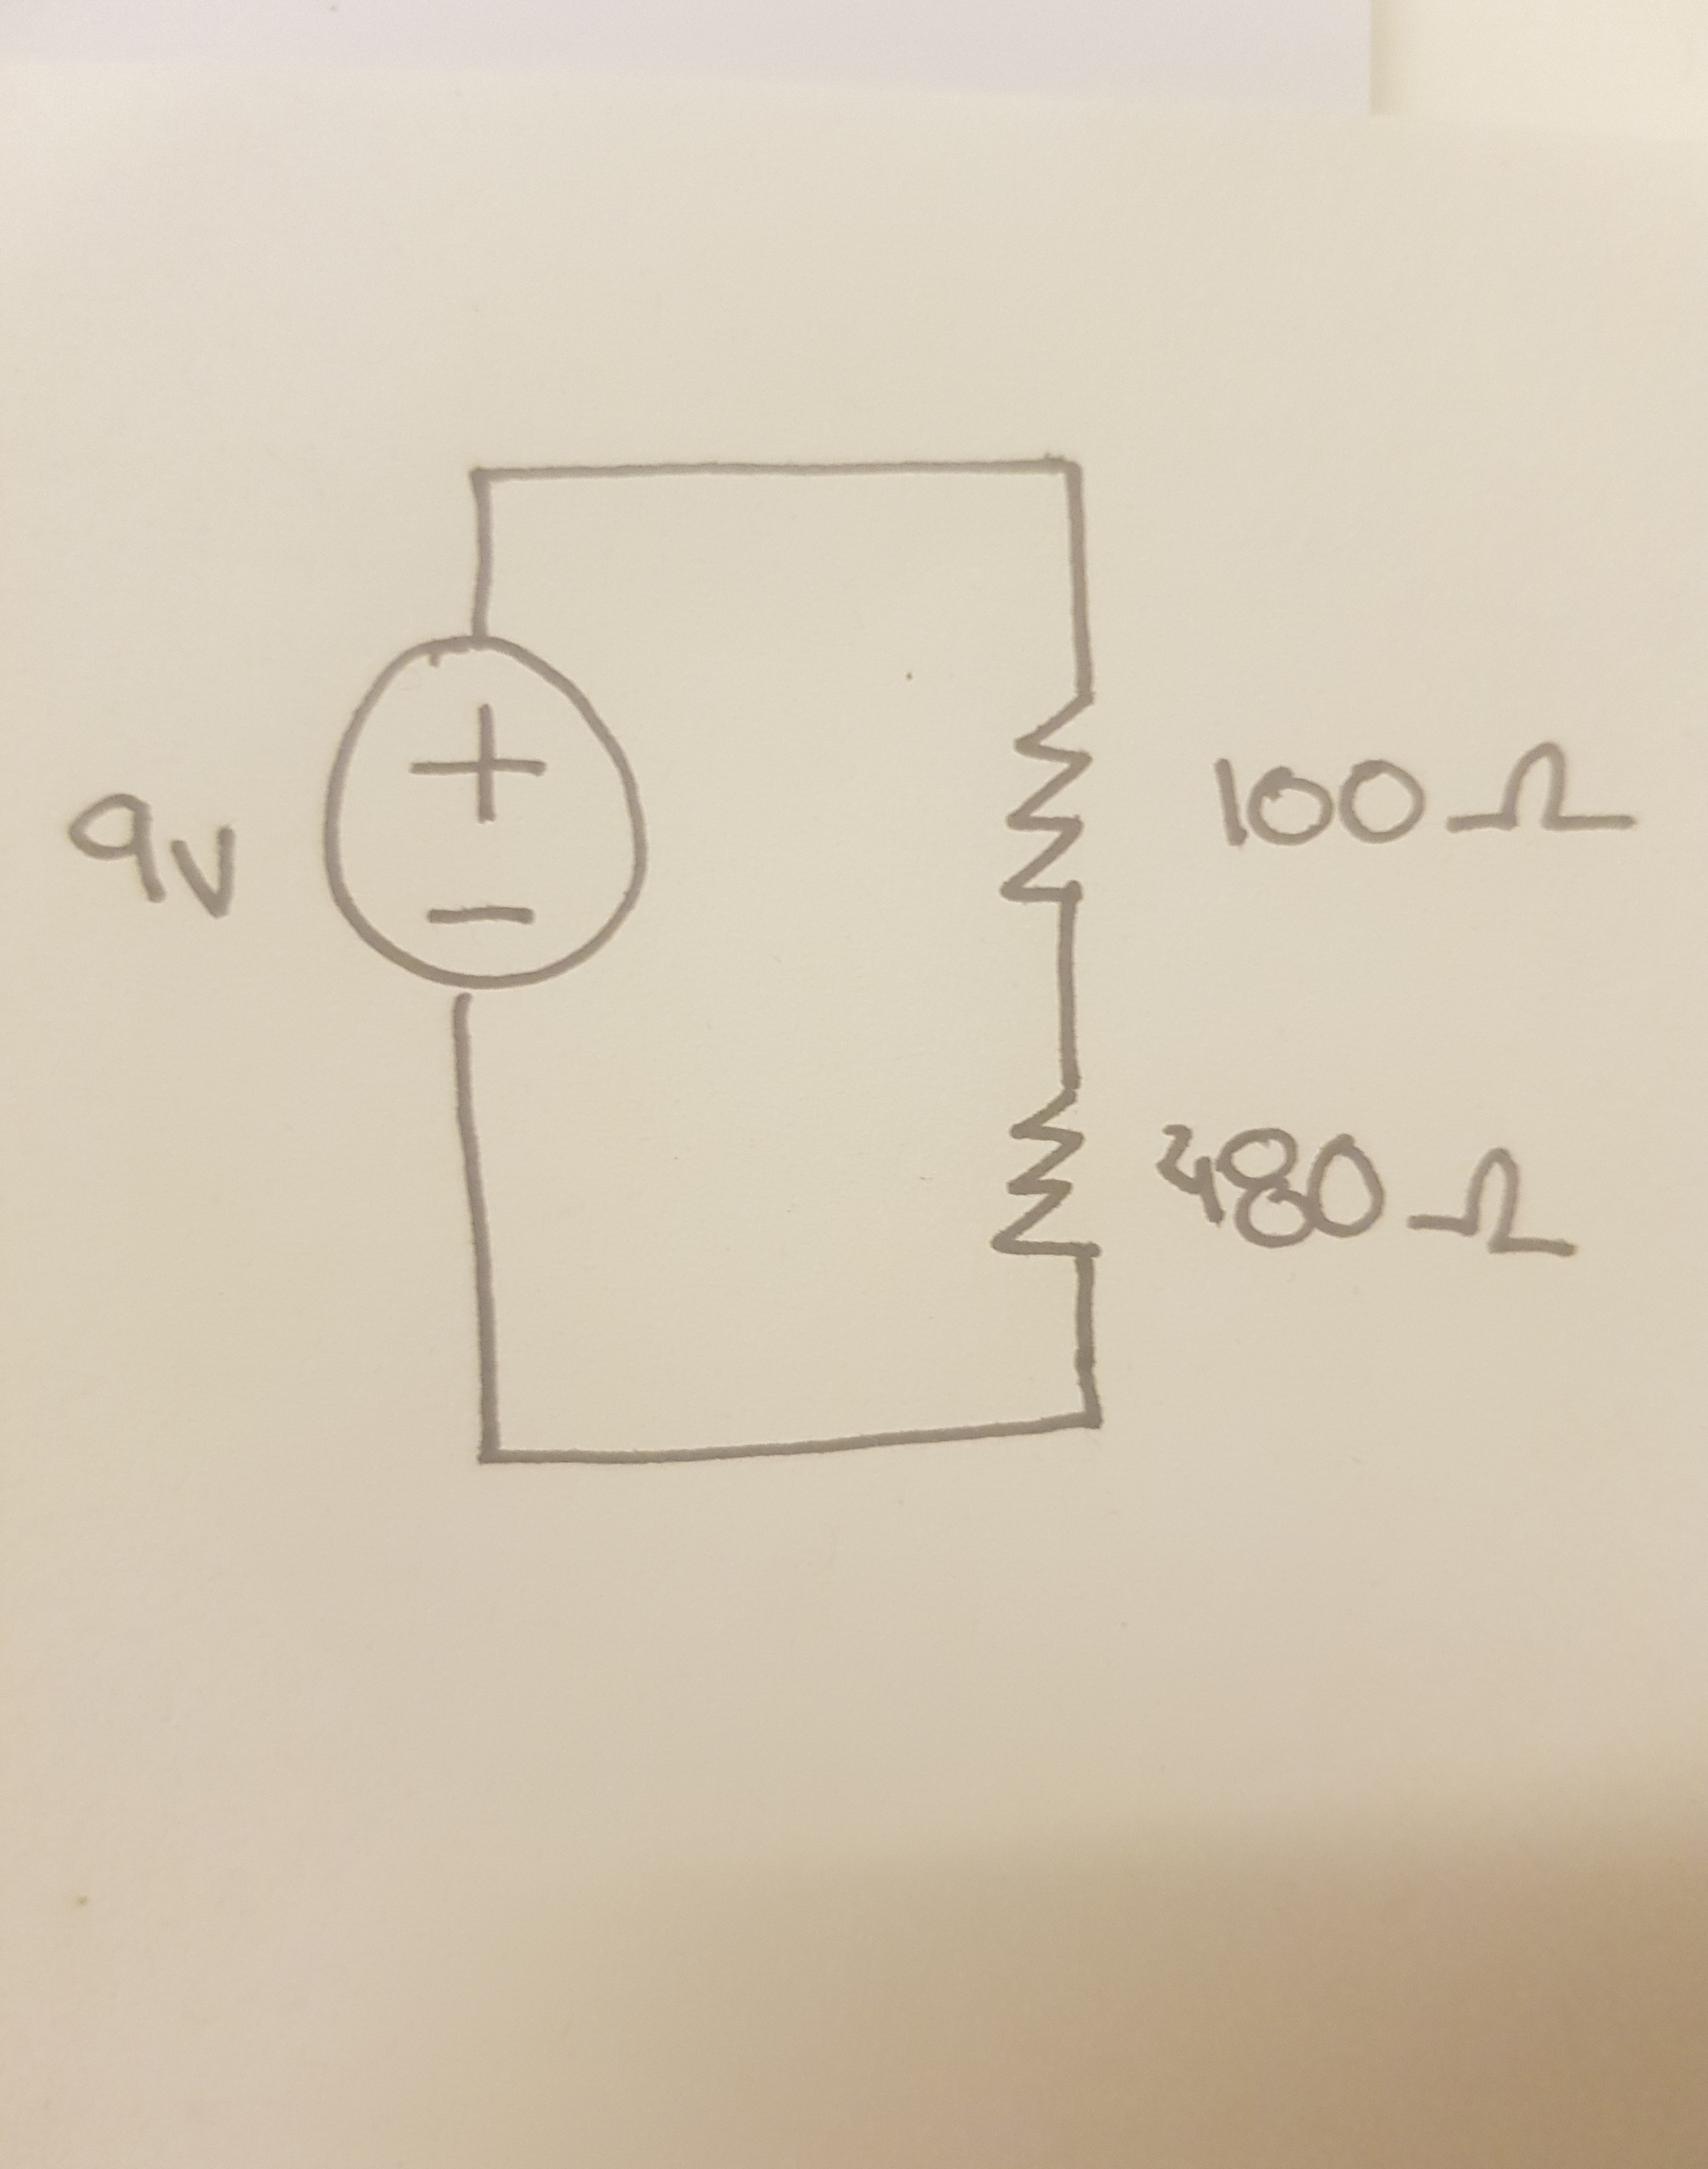junction: (451, 1421, 528, 1502), (1051, 1382, 1125, 1454), (1028, 435, 1099, 511), (454, 445, 518, 511)
resistor: (991, 662, 1118, 938), (977, 1062, 1125, 1287)
text: (1143, 1106, 1583, 1271), (1203, 734, 1643, 871), (55, 769, 255, 938)
voltage.dc: (313, 623, 662, 1002)
